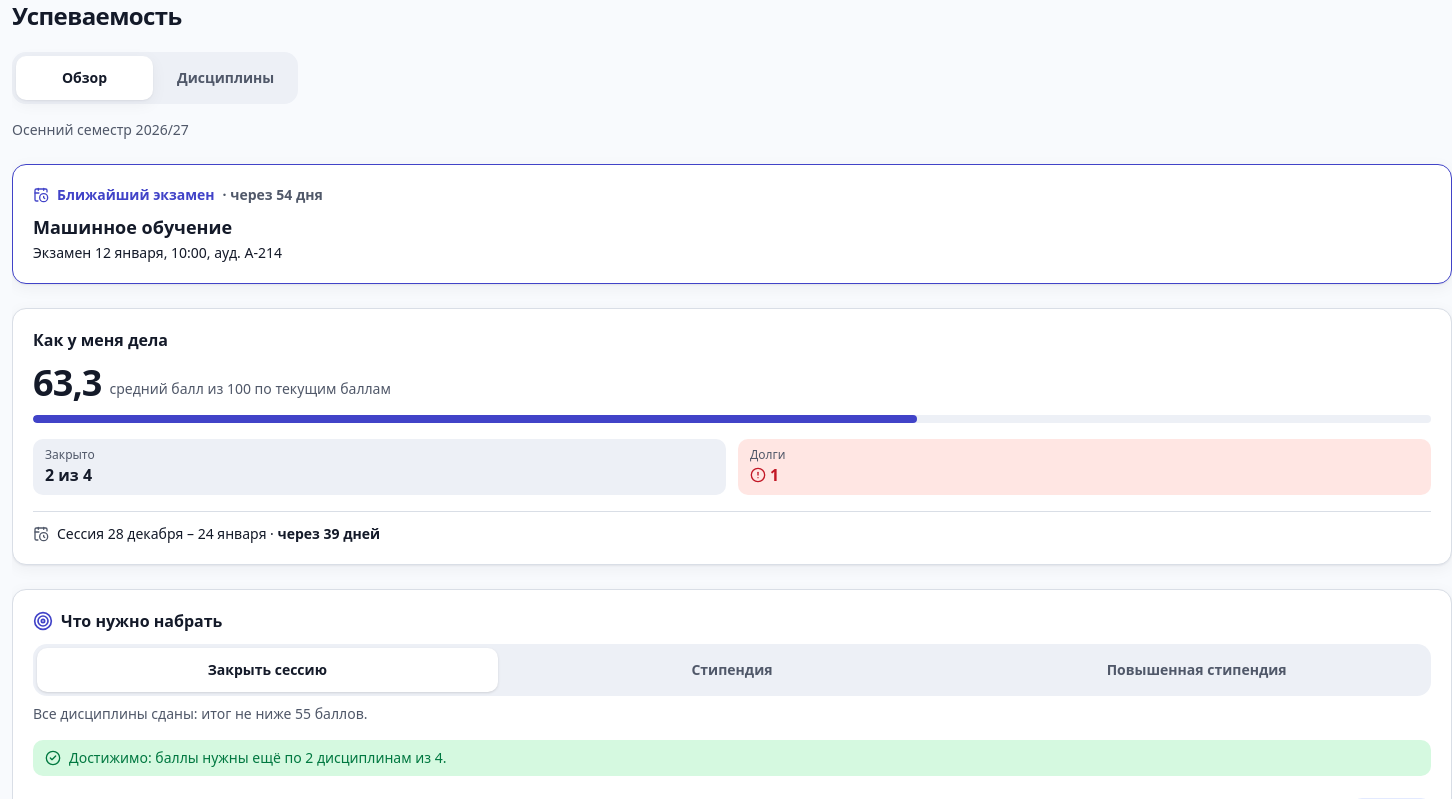
экран успеваемости › калькулятор: по умолчанию достижимая цель, переключение показывает правило и итог
Check: the heading "Что нужно набрать" is shown, box [33,610,222,632]
Check: the text "Достижимо: баллы нужны ещё по 2 дисциплинам из 4." is shown, box [33,740,1431,776]
Click the button "Стипендия" at [732, 670], box [502,648,962,692]
(page scrolled)
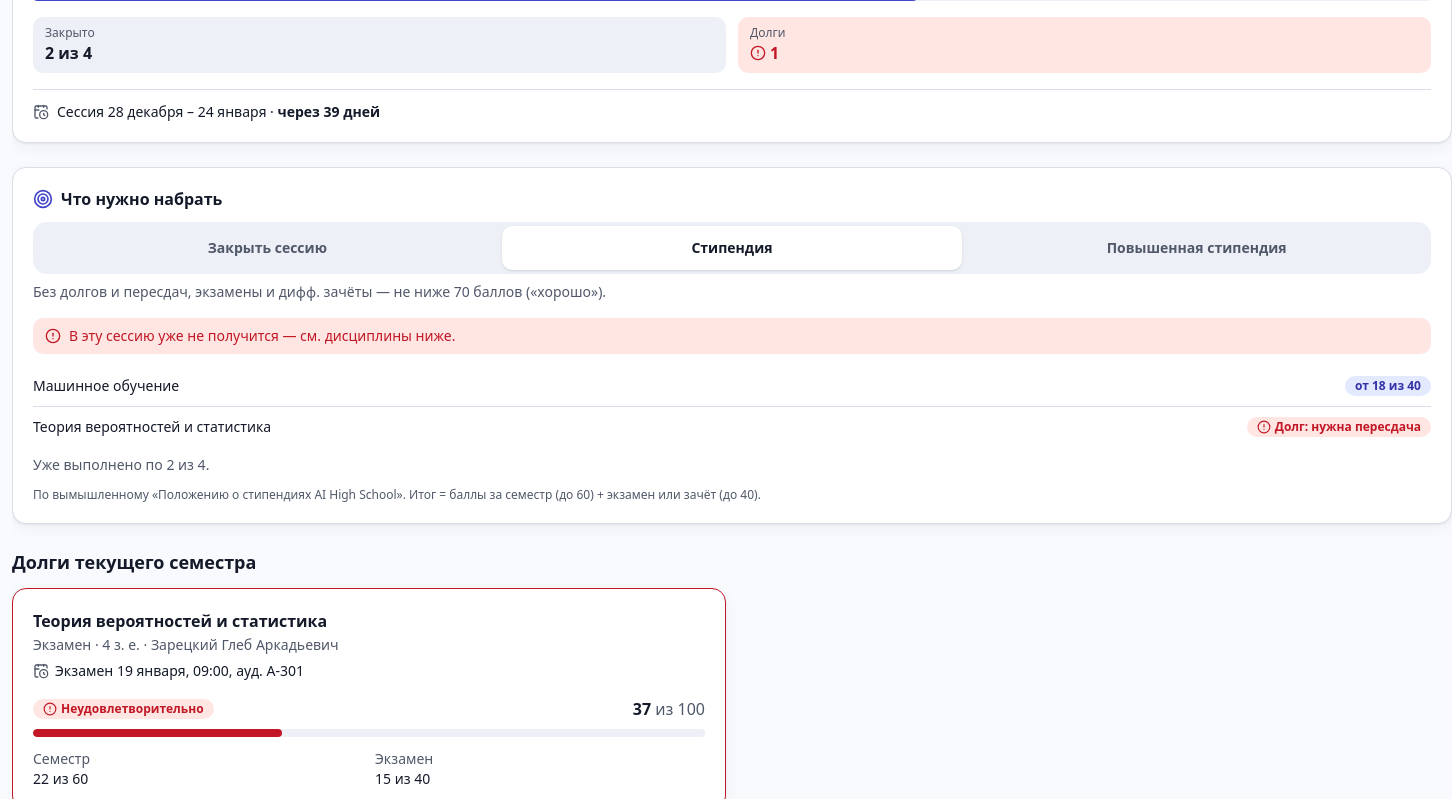
Check: the text "не ниже 70 баллов" is shown, box [33,282,606,301]
Check: the text "В эту сессию уже не получится — см. дисциплины ниже." is shown, box [33,318,1431,354]
Check: the text "от 18 из 40" is shown, box [1345,376,1431,396]
